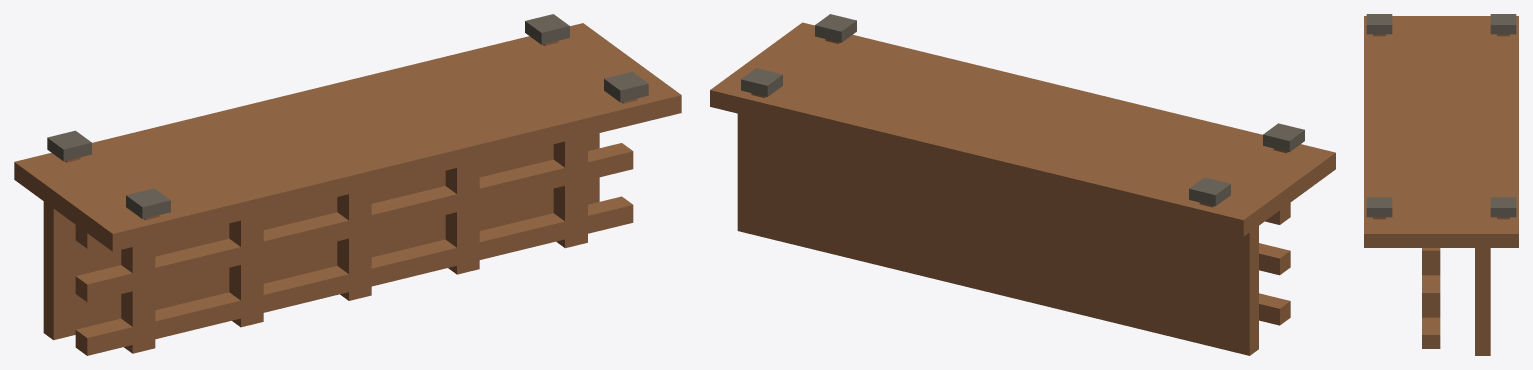
The picture shows the model from 3 angles, left to right: view 1: azimuth 30°, elevation 25°; view 2: azimuth 150°, elevation 25°; view 3: azimuth 270°, elevation 25°; orthographic projection. The views are drawn at different scales.
Visible parts, largest first — view 1: timber-top-rail, timber-backing, timber-horizontal-1, timber-horizontal-2, timber-vertical-1, timber-vertical-3, timber-vertical-4, timber-vertical-5, timber-vertical-2, ceiling-pad-left-front, ceiling-pad-left-back, ceiling-pad-right-back (+1 smaller); view 2: timber-backing, timber-top-rail, ceiling-pad-right-front, ceiling-pad-left-back, ceiling-pad-left-front, ceiling-pad-right-back, timber-horizontal-2, timber-horizontal-1; view 3: timber-top-rail, timber-backing, timber-horizontal-2, timber-horizontal-1, ceiling-pad-left-front, ceiling-pad-right-front, ceiling-pad-left-back, ceiling-pad-right-back, timber-vertical-5, timber-horizontal-3.
Part boxes in pixels (left/top/right/bottom): timber-top-rail: left=14, top=23, right=681, bottom=251; timber-backing: left=43, top=133, right=599, bottom=340; timber-horizontal-1: left=75, top=196, right=633, bottom=355; timber-horizontal-2: left=75, top=143, right=633, bottom=302; timber-vertical-1: left=121, top=241, right=155, bottom=353; timber-vertical-3: left=337, top=188, right=371, bottom=300; timber-vertical-4: left=445, top=162, right=479, bottom=274; timber-vertical-5: left=553, top=136, right=587, bottom=248; timber-vertical-2: left=229, top=215, right=263, bottom=327; ceiling-pad-left-front: left=126, top=188, right=170, bottom=218; ceiling-pad-left-back: left=47, top=130, right=91, bottom=161; ceiling-pad-right-back: left=525, top=14, right=569, bottom=44; timber-backing: left=737, top=113, right=1258, bottom=355; timber-top-rail: left=710, top=22, right=1335, bottom=236; ceiling-pad-right-front: left=815, top=14, right=856, bottom=42; ceiling-pad-left-back: left=1189, top=177, right=1230, bottom=206; ceiling-pad-left-front: left=1263, top=123, right=1304, bottom=152; ceiling-pad-right-back: left=741, top=68, right=782, bottom=96; timber-horizontal-2: left=1259, top=243, right=1290, bottom=275; timber-horizontal-1: left=1259, top=293, right=1290, bottom=325; timber-top-rail: left=1364, top=16, right=1518, bottom=247; timber-backing: left=1475, top=248, right=1490, bottom=355; timber-horizontal-2: left=1422, top=275, right=1440, bottom=306; timber-horizontal-1: left=1422, top=317, right=1440, bottom=348; ceiling-pad-left-front: left=1366, top=14, right=1392, bottom=34; ceiling-pad-right-front: left=1366, top=197, right=1392, bottom=217; ceiling-pad-left-back: left=1490, top=14, right=1516, bottom=34; ceiling-pad-right-back: left=1490, top=197, right=1516, bottom=217; timber-vertical-5: left=1422, top=264, right=1440, bottom=317; timber-horizontal-3: left=1422, top=248, right=1440, bottom=264.
Size of the model in its own units: 1 by 0.3 by 0.3.
